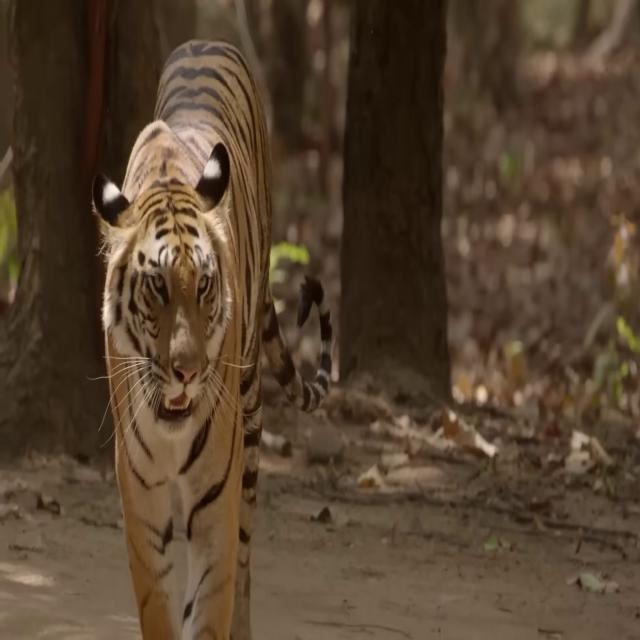tiger: (90, 37, 333, 640)
